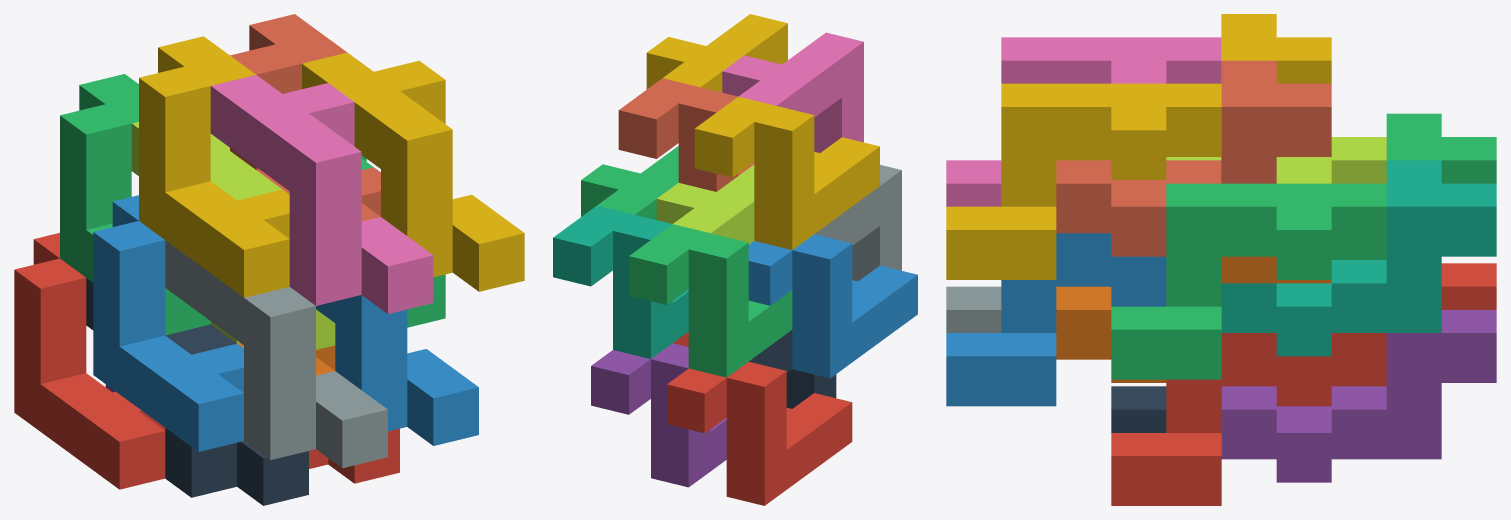
Rendered from tiling.obj.
3 views of the same model, side by side, from view 1: azimuth 30°, elevation 25°; view 2: azimuth 150°, elevation 25°; view 3: azimuth 270°, elevation 25° (orthographic). The views are drawn at different scales.
Parts seen in each view (by area): view 1: copy_2_domain_4, copy_1_domain_4, copy_2_domain_8, copy_1_domain_2, copy_2_domain_2, copy_1_domain_1, copy_2_domain_6, copy_1_domain_3, copy_2_domain_1, copy_1_domain_8, copy_2_domain_3, copy_2_domain_5 (+1 smaller); view 2: copy_1_domain_4, copy_1_domain_1, copy_1_domain_2, copy_1_domain_3, copy_1_domain_7, copy_2_domain_4, copy_1_domain_5, copy_1_domain_8, copy_2_domain_8, copy_2_domain_2, copy_2_domain_3, copy_2_domain_7 (+1 smaller); view 3: copy_2_domain_7, copy_2_domain_8, copy_1_domain_7, copy_1_domain_5, copy_1_domain_8, copy_2_domain_5, copy_2_domain_6, copy_2_domain_4, copy_1_domain_6, copy_1_domain_3, copy_1_domain_4, copy_2_domain_3 (+3 smaller).
Boxes of the visible parts, x1,y1,x2,y2 form: copy_2_domain_4: (210,75,433,313); copy_1_domain_4: (139,36,289,297); copy_2_domain_8: (302,52,524,291); copy_1_domain_2: (93,195,243,451); copy_2_domain_2: (165,240,387,468); copy_1_domain_1: (14,233,165,489); copy_2_domain_6: (316,295,478,445); copy_1_domain_3: (60,74,210,335); copy_2_domain_1: (86,278,308,505); copy_1_domain_8: (230,14,380,221); copy_2_domain_3: (131,122,335,349); copy_2_domain_5: (309,428,399,483); copy_1_domain_4: (694,96,879,249); copy_1_domain_1: (667,361,852,505); copy_1_domain_2: (748,234,917,378); copy_1_domain_3: (629,224,792,377); copy_1_domain_7: (553,205,688,358); copy_2_domain_4: (722,32,863,152); copy_1_domain_5: (591,343,726,487); copy_1_domain_8: (618,78,754,191); copy_2_domain_8: (646,14,787,92); copy_2_domain_2: (814,165,901,281); copy_2_domain_3: (656,164,754,244); copy_2_domain_7: (581,146,678,219); copy_2_domain_7: (1111,183,1386,379); copy_2_domain_8: (946,83,1221,279); copy_1_domain_7: (1221,160,1496,356); copy_1_domain_5: (1221,310,1496,482); copy_1_domain_8: (1056,60,1331,256); copy_2_domain_5: (1111,333,1386,505); copy_2_domain_6: (946,233,1166,406); copy_2_domain_4: (946,37,1221,206); copy_1_domain_6: (1056,256,1331,382); copy_1_domain_3: (1331,113,1496,259); copy_1_domain_4: (1056,14,1331,160); copy_2_domain_3: (1166,137,1386,183).
Bounding box in the file's own units: 6 × 8 × 10.
